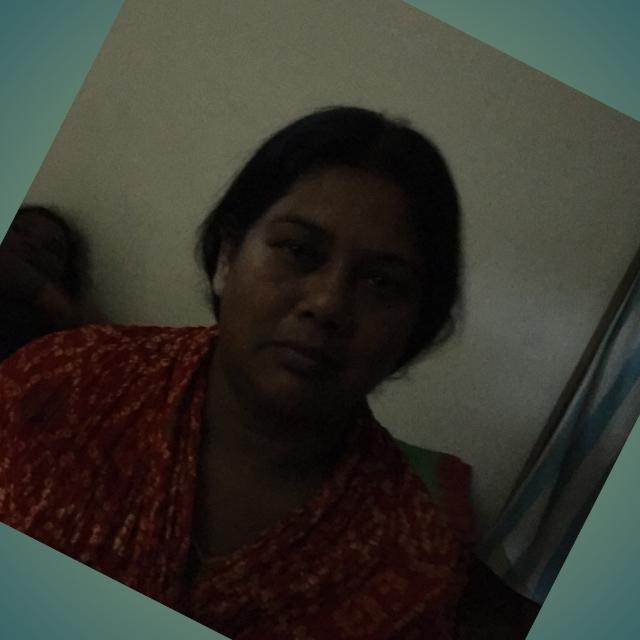Natural: (195, 84, 462, 467)
